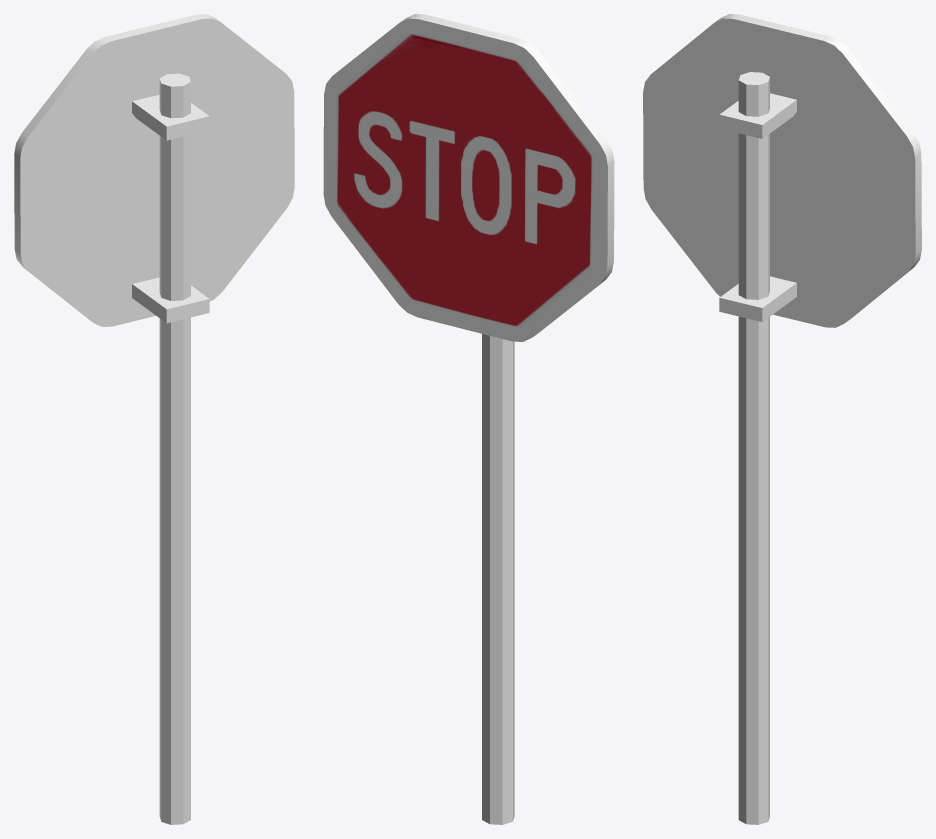
File: LO_Stop_Sign_V1.fbx
3 renders of one model, left to right at view 1: azimuth 30°, elevation 25°; view 2: azimuth 150°, elevation 25°; view 3: azimuth 330°, elevation 25°, orthographic. The views are drawn at different scales.
Visible parts, largest first — view 1: Sign; view 2: Sign; view 3: Sign.
Boxes of the visible parts, x1,y1,x2,y2 form: Sign: (14,14,294,824); Sign: (323,14,614,824); Sign: (643,14,921,824).
Size of the model in its own units: 51.64 by 139 by 13.51.
